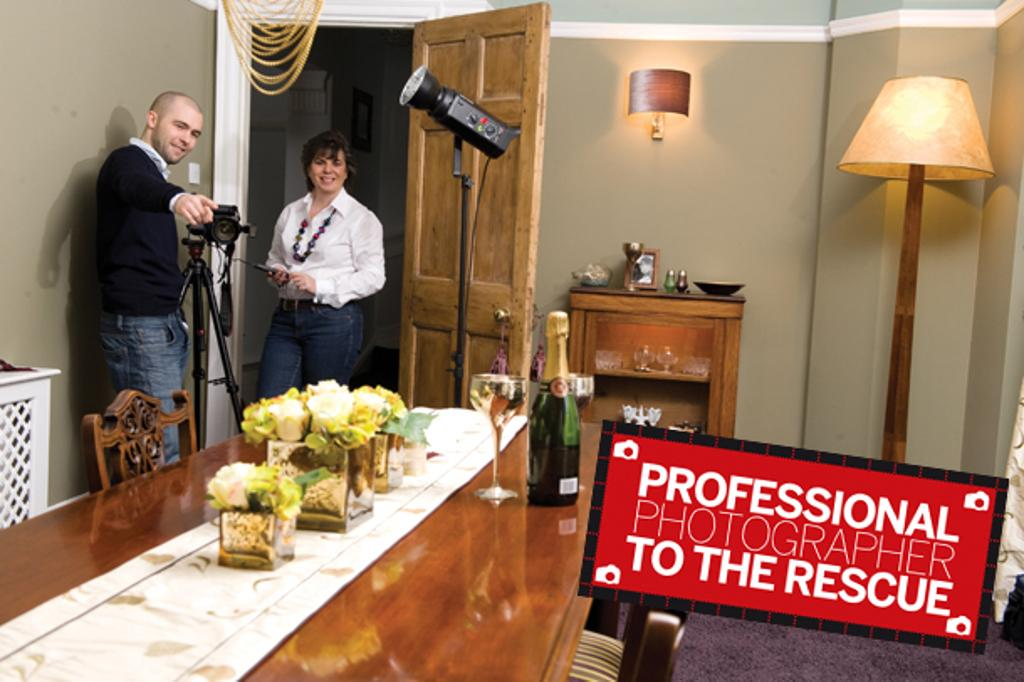face: (152, 106, 204, 162), (309, 146, 347, 192)
